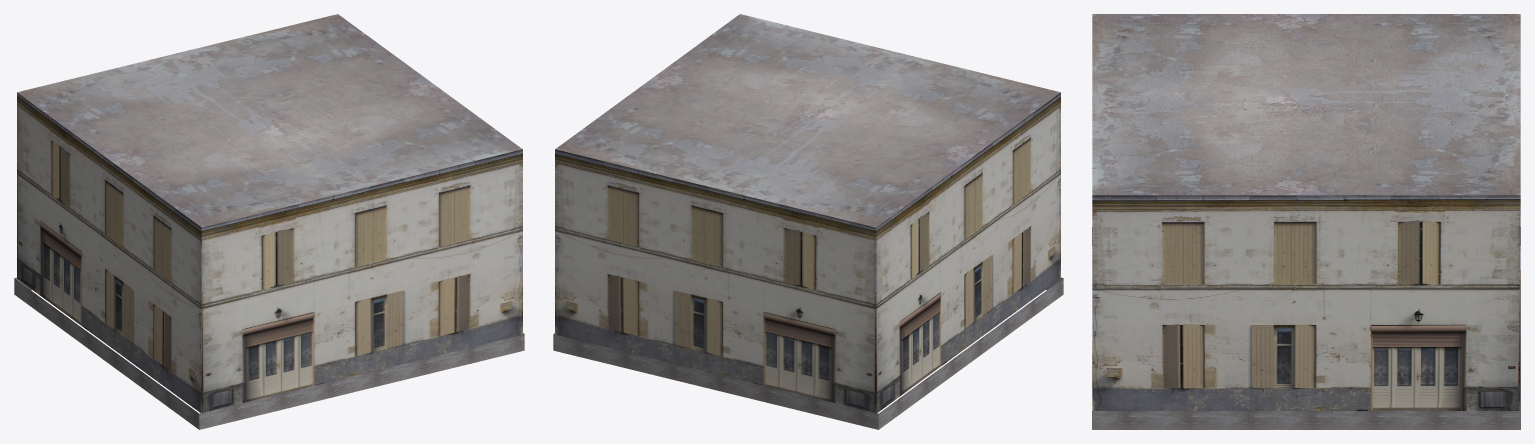
The model's file is BagBuilding16_0.fbx.
3 views of the same model, side by side, from view 1: azimuth 30°, elevation 25°; view 2: azimuth 150°, elevation 25°; view 3: azimuth 270°, elevation 25° (orthographic). The views are drawn at different scales.
Visible parts, largest first — view 1: boxa0, roof0, floorb0; view 2: baseb0, roof0, boxa0, floorb0; view 3: baseb0, roof0, floorb0.
Boxes of the visible parts, <box> form: boxa0: <box>17,92,522,412</box>; roof0: <box>17,14,522,227</box>; floorb0: <box>14,277,524,429</box>; baseb0: <box>555,149,876,412</box>; roof0: <box>555,14,1060,227</box>; boxa0: <box>876,92,1060,412</box>; floorb0: <box>553,277,1063,429</box>; baseb0: <box>1092,195,1520,410</box>; roof0: <box>1092,14,1520,195</box>; floorb0: <box>1092,227,1520,429</box>.
Size of the model in its own units: 27.37 by 16.2 by 26.97.
